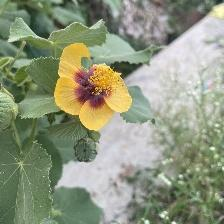indian mallow: (52, 43, 136, 132)
